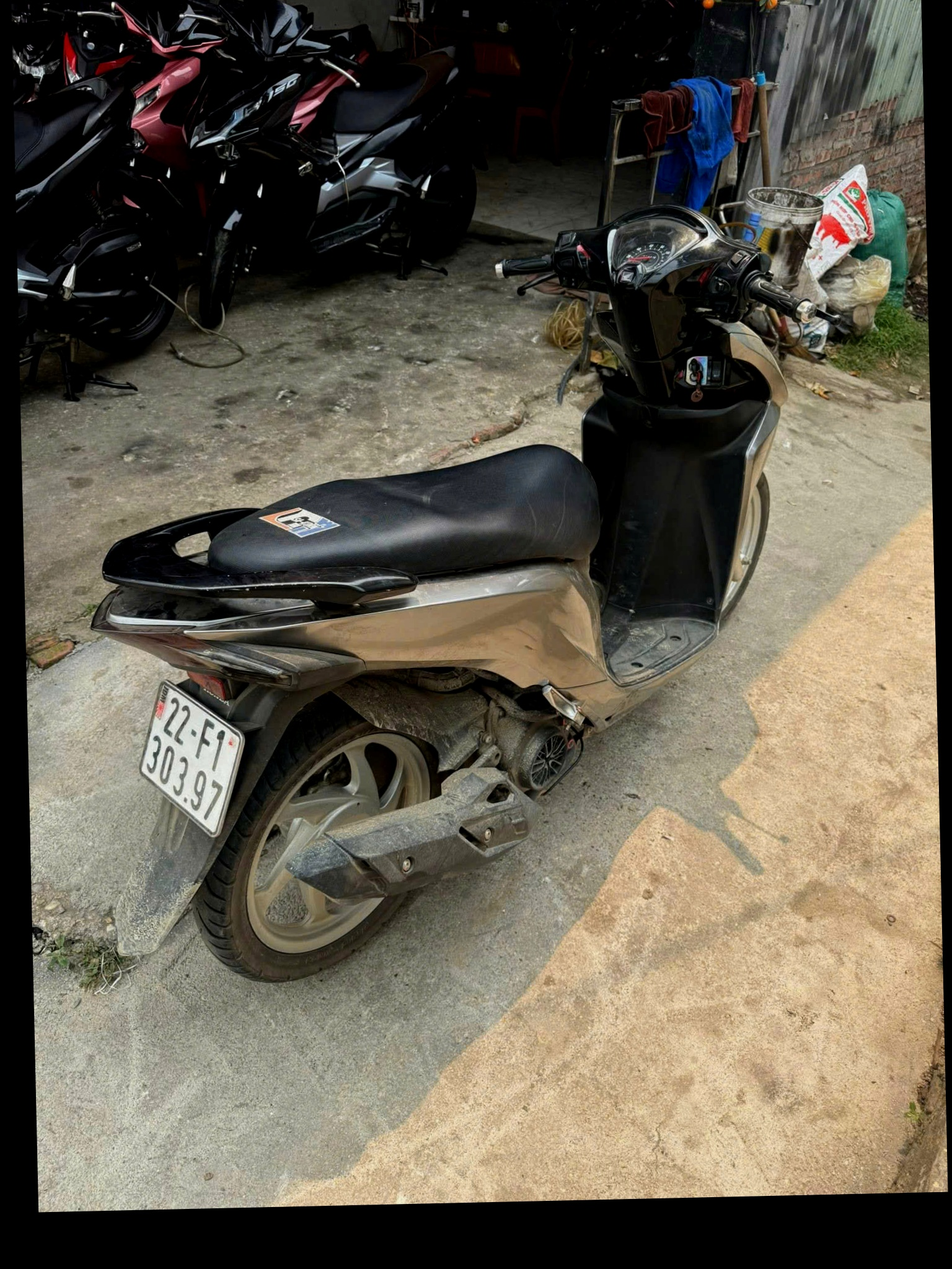Bien-so: (74, 663, 214, 851)
